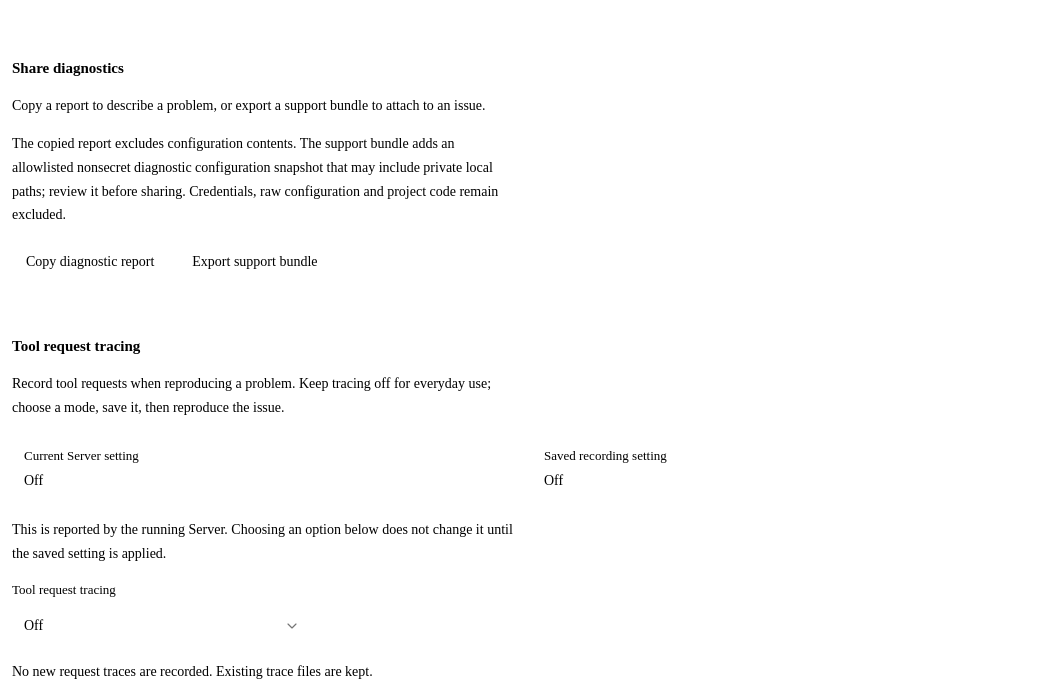
Diagnostics are explicit and secret-free › keeps the running mode separate from the draft and a saved pending setting
Select "Timing & status only" in the dropdown labelled "Tool request tracing". click: (162, 626)
box: [12,606,312,646]
(page scrolled)
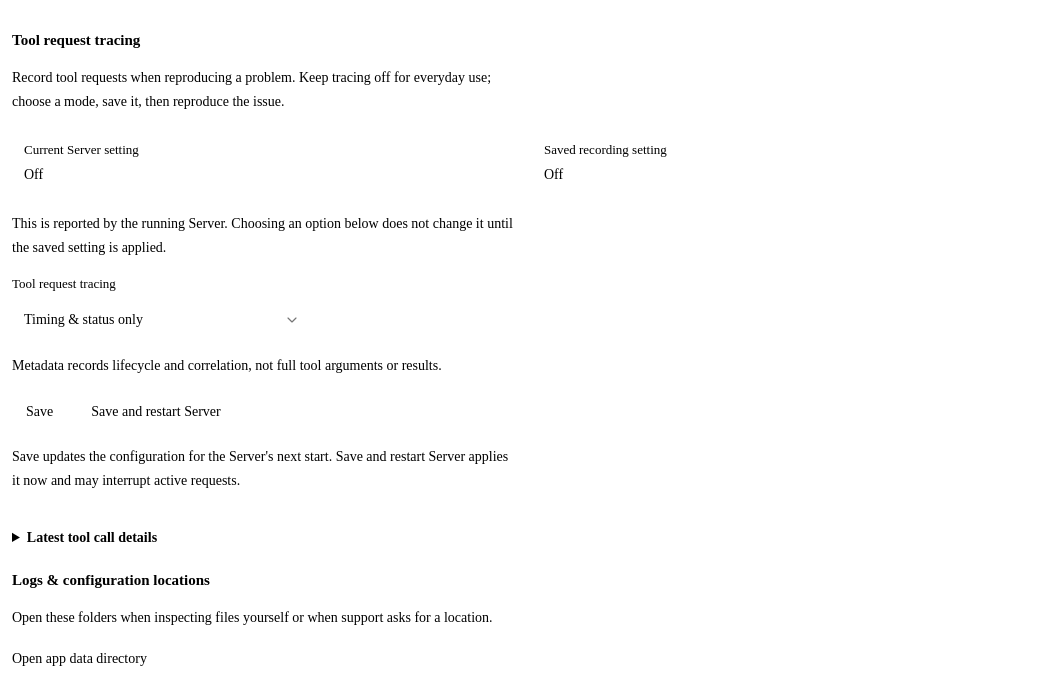
Check: the text "Off" below "Saved recording setting" is shown, box [544,167,563,182]
Click the button "Save". click: (40, 411)
box: [12,391,67,431]
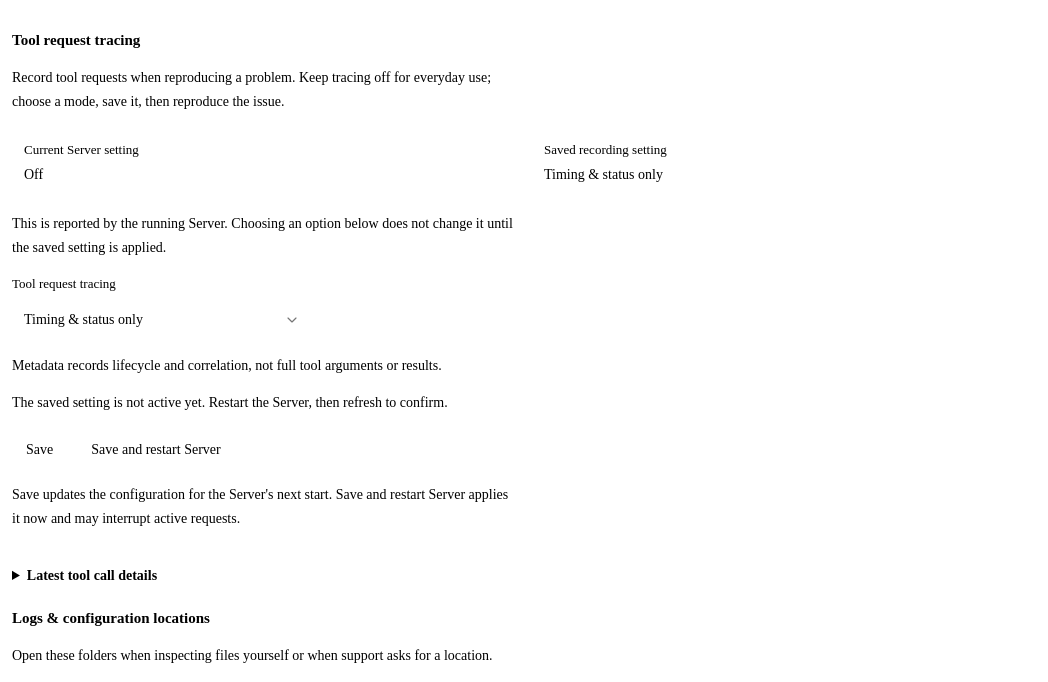
Check: the text "Off" is shown, box [24,167,43,182]
Check: the text "The saved setting is not active yet" is shown, box [12,395,448,410]
Check: the text "Timing & status only" is shown, box [544,167,663,182]
